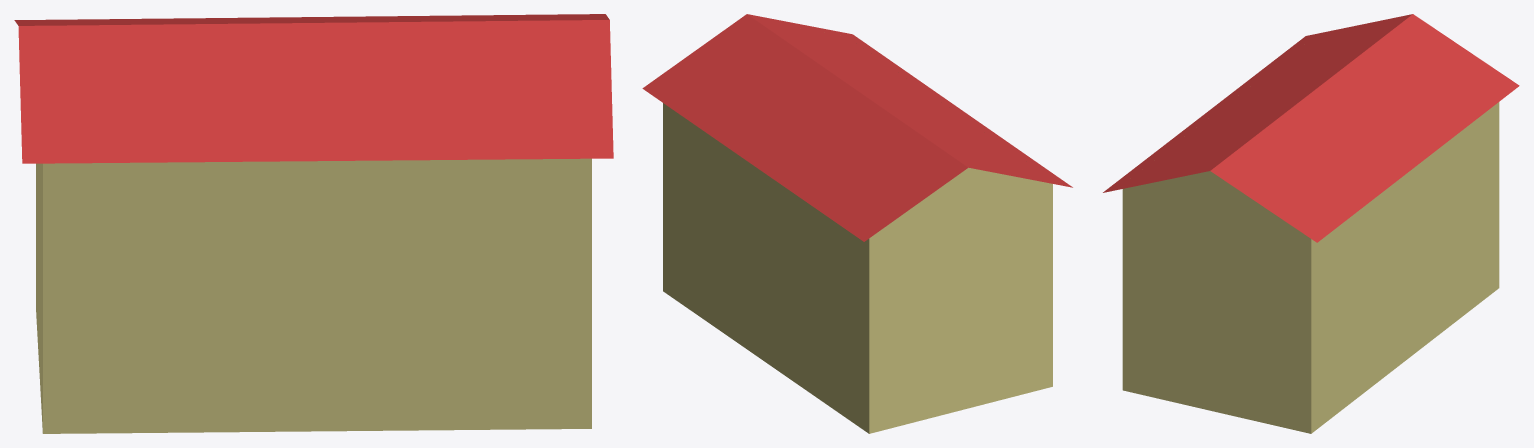
3 renders of one model, left to right at view 1: azimuth 30°, elevation 25°; view 2: azimuth 150°, elevation 25°; view 3: azimuth 270°, elevation 25°, orthographic. The views are drawn at different scales.
Visible parts, largest first — view 1: group_5, group_3, group_4; view 2: group_5, group_3, group_4; view 3: group_5, group_3, group_4.
Part boxes in pixels (bbox=[...]): group_5: bbox=[36, 158, 591, 433]; group_3: bbox=[18, 14, 613, 163]; group_4: bbox=[14, 14, 613, 163]; group_5: bbox=[663, 103, 1052, 433]; group_3: bbox=[642, 14, 1052, 241]; group_4: bbox=[647, 14, 1072, 241]; group_5: bbox=[1122, 102, 1499, 433]; group_3: bbox=[1123, 14, 1519, 242]; group_4: bbox=[1103, 14, 1518, 239].
Size of the model in its own units: 24.32 by 20.78 by 13.55.
